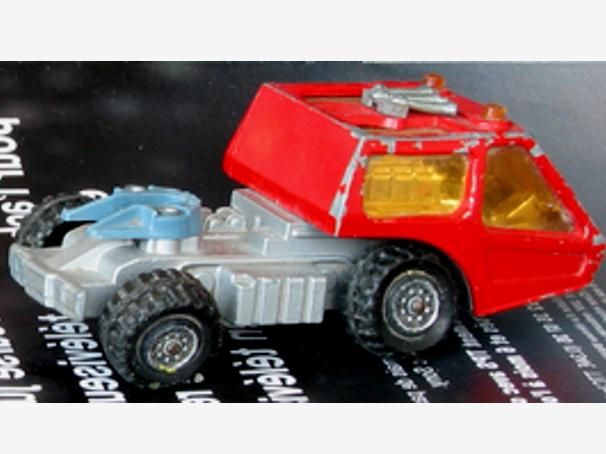toy-car: (8, 72, 606, 391)
